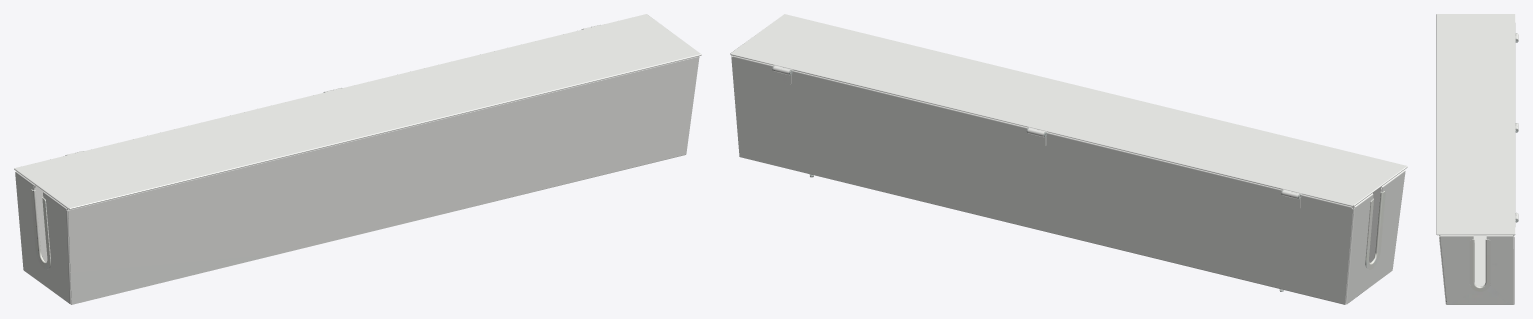
Rendered from 09 - MITTZON - 活動式框架專用電線收納盒, 白色, 80x13 公分 IKEA 線上購物.glb.
The picture shows the model from 3 angles, left to right: view 1: azimuth 30°, elevation 25°; view 2: azimuth 150°, elevation 25°; view 3: azimuth 270°, elevation 25°; orthographic projection. The views are drawn at different scales.
Parts seen in each view (by area): view 1: model; view 2: model; view 3: model.
Part boxes in pixels (x1,y1,x2,y2): model: (14,14,701,304); model: (730,14,1407,304); model: (1436,14,1518,304).
Bounding box in the file's own units: 0.7985 × 0.1322 × 0.1259.
1 material, 1 textured.
